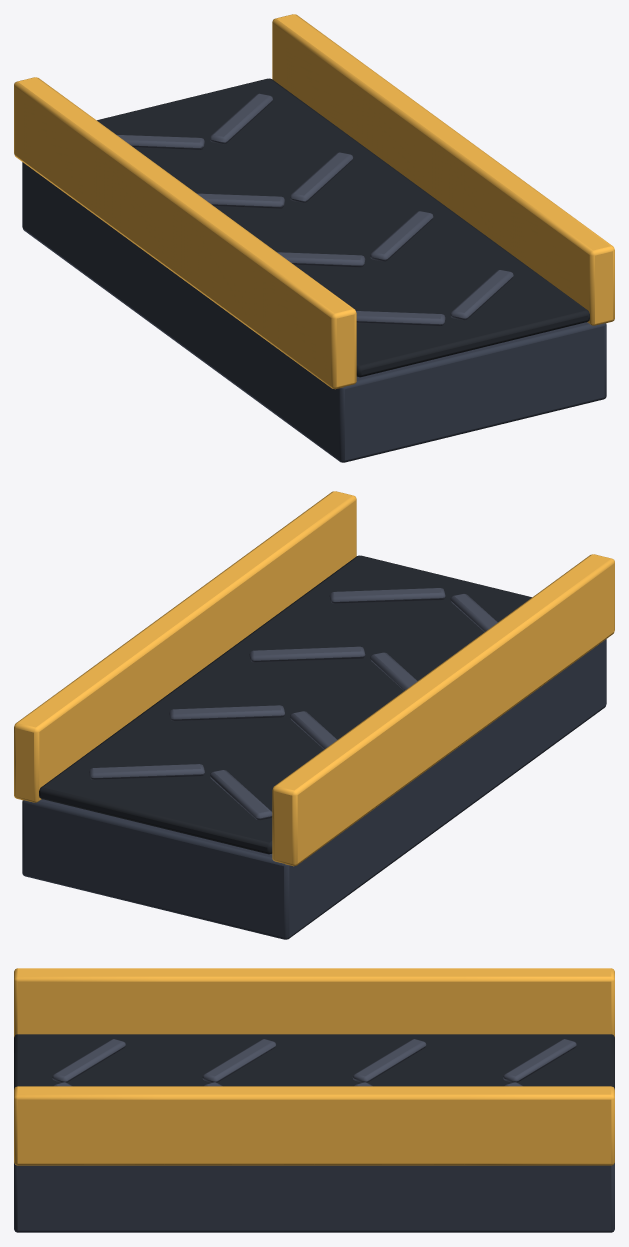
The model's file is band_gerade_2m.fbx.
3 renders of one model, top to bottom at view 1: azimuth 30°, elevation 25°; view 2: azimuth 150°, elevation 25°; view 3: azimuth 270°, elevation 25°, orthographic. The views are drawn at different scales.
Visible parts, largest first — view 1: band_gerade_2m_Koerper; view 2: band_gerade_2m_Koerper; view 3: band_gerade_2m_Koerper.
Part boxes in pixels (x1=…): band_gerade_2m_Koerper: x1=14, y1=14, x2=614, y2=462; band_gerade_2m_Koerper: x1=14, y1=491, x2=614, y2=939; band_gerade_2m_Koerper: x1=14, y1=968, x2=614, y2=1232.
Size of the model in its own units: 1.02 by 0.52 by 2.
